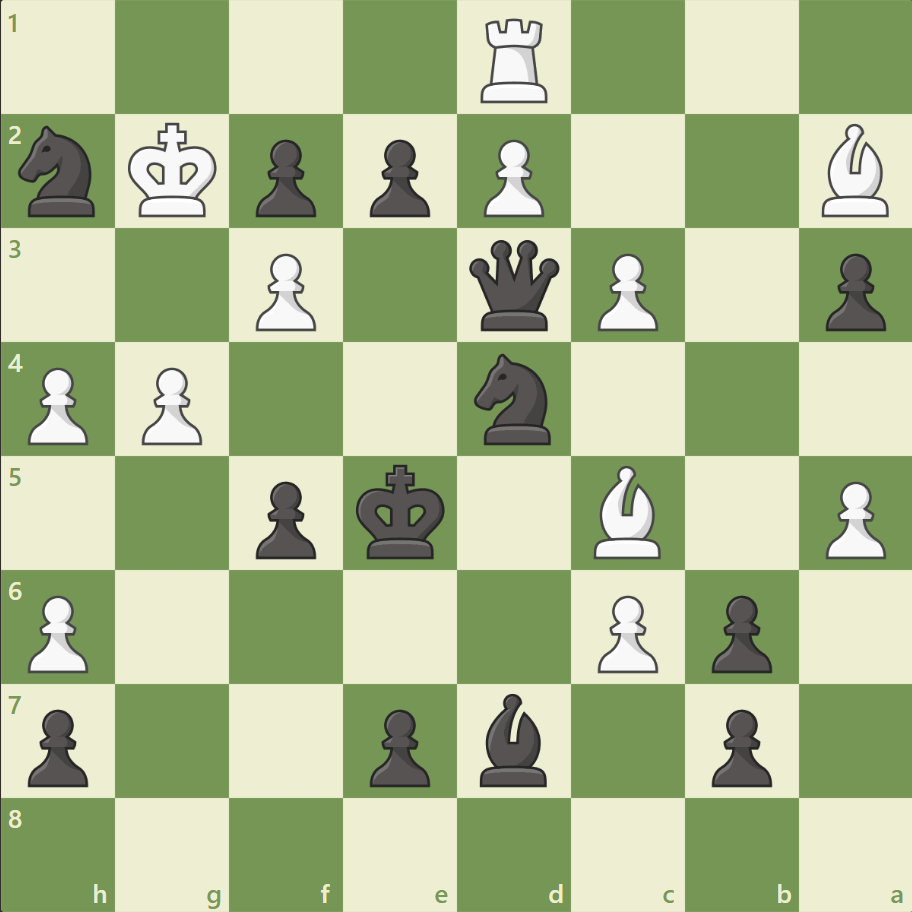B: (585, 460, 669, 563), (812, 120, 896, 222)
K: (124, 117, 224, 225)
P: (20, 586, 95, 677), (133, 359, 208, 450), (20, 359, 95, 450), (247, 246, 322, 337), (474, 132, 549, 223), (588, 586, 662, 677), (815, 473, 889, 564), (588, 246, 662, 337)
R: (473, 12, 556, 109)
b: (471, 687, 555, 790)
k: (351, 458, 451, 566)
n: (465, 348, 562, 450), (11, 121, 108, 223)
p: (701, 700, 776, 791), (20, 700, 95, 791), (701, 586, 776, 677), (247, 473, 322, 564), (247, 132, 322, 223), (361, 700, 435, 791), (815, 246, 889, 337), (361, 132, 435, 223)
q: (464, 236, 563, 335)
